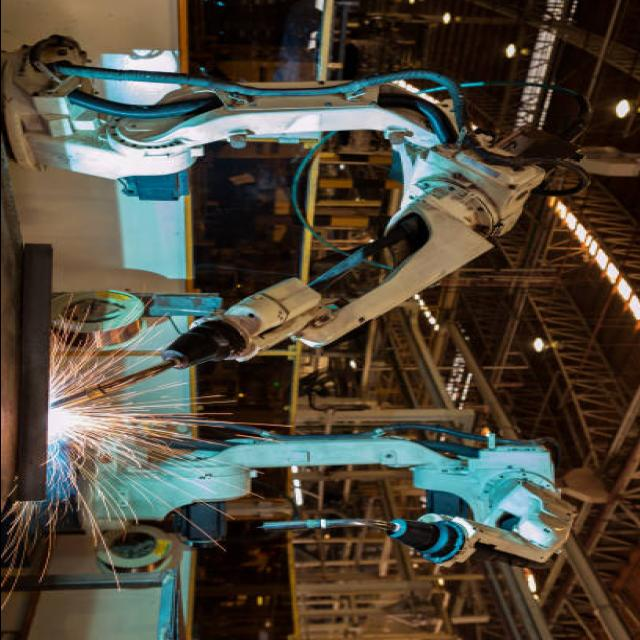Robotic-arm: (12, 55, 556, 363), (101, 422, 570, 574)
